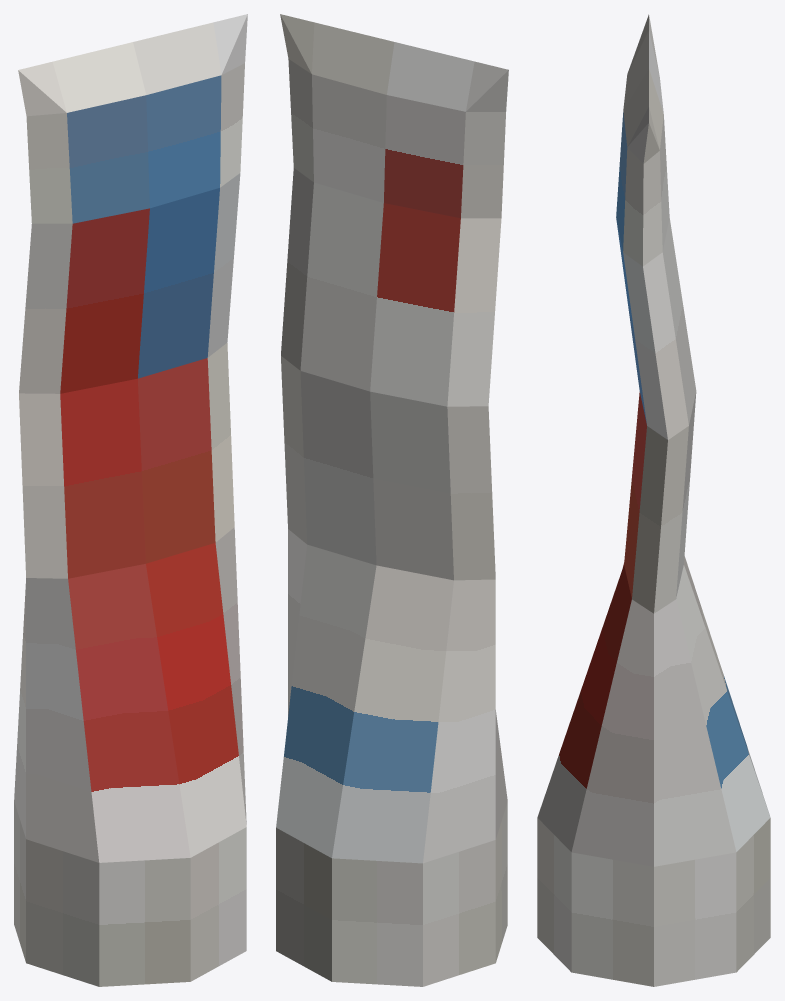
The model's file is Toothpaste02.glb.
3 views of the same model, side by side, from view 1: azimuth 30°, elevation 25°; view 2: azimuth 150°, elevation 25°; view 3: azimuth 270°, elevation 25° (orthographic). The views are drawn at different scales.
Parts seen in each view (by area): view 1: Toothpaste02; view 2: Toothpaste02; view 3: Toothpaste02.
Part boxes in pixels (x1,y1,x2,y2): Toothpaste02: (14, 14, 247, 986); Toothpaste02: (276, 14, 508, 986); Toothpaste02: (537, 14, 770, 986).
Size of the model in its own units: 0.064 by 0.2389 by 0.0581.
Materials: 1 (1 with a texture image).
